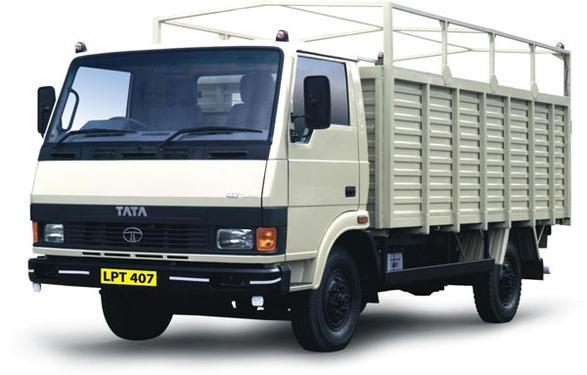truck: (29, 22, 585, 332)
